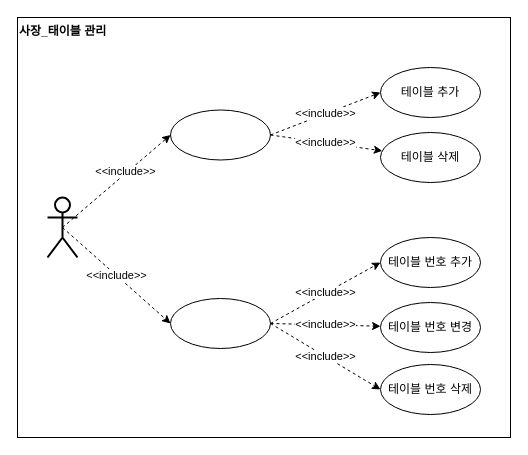
This 528x455 diagram has some shape labels left out. The shapes that lost their labels are listed below. From the top down, each one's centre as x and y in pixels, then its label:
At pixel 220 134: "테이블 등록".
At pixel 62 227: "사장".
At pixel 220 323: "테이블 번호 관리".
